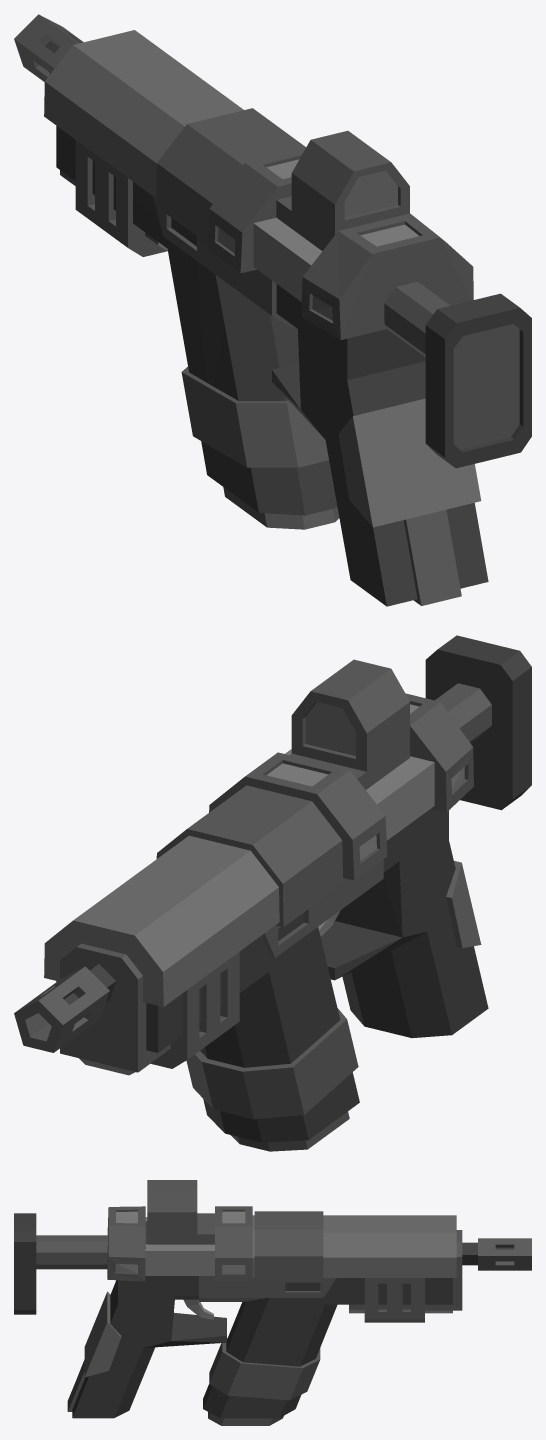
File: fusil_1.glb
3 views of the same model, one above another, from view 1: azimuth 30°, elevation 25°; view 2: azimuth 150°, elevation 25°; view 3: azimuth 270°, elevation 25° (orthographic). The views are drawn at different scales.
Visible parts, largest first — view 1: fusil_1, fusil_scope_1, fusil_charger_1; view 2: fusil_1, fusil_scope_1, fusil_charger_1; view 3: fusil_1, fusil_scope_1, fusil_charger_1.
Part boxes in pixels (x1=…): fusil_1: x1=14, y1=14, x2=531, y2=606; fusil_scope_1: x1=276, y1=130, x2=409, y2=250; fusil_charger_1: x1=223, y1=487, x2=339, y2=529; fusil_1: x1=14, y1=635, x2=531, y2=1142; fusil_scope_1: x1=290, y1=659, x2=409, y2=789; fusil_charger_1: x1=231, y1=1111, x2=349, y2=1151; fusil_1: x1=14, y1=1206, x2=531, y2=1418; fusil_scope_1: x1=147, y1=1180, x2=214, y2=1244; fusil_charger_1: x1=208, y1=1412, x2=283, y2=1425.
Bounding box in the file's own units: 0.4812 × 1.25 × 2.56.
Materials: 1 (1 with a texture image).
